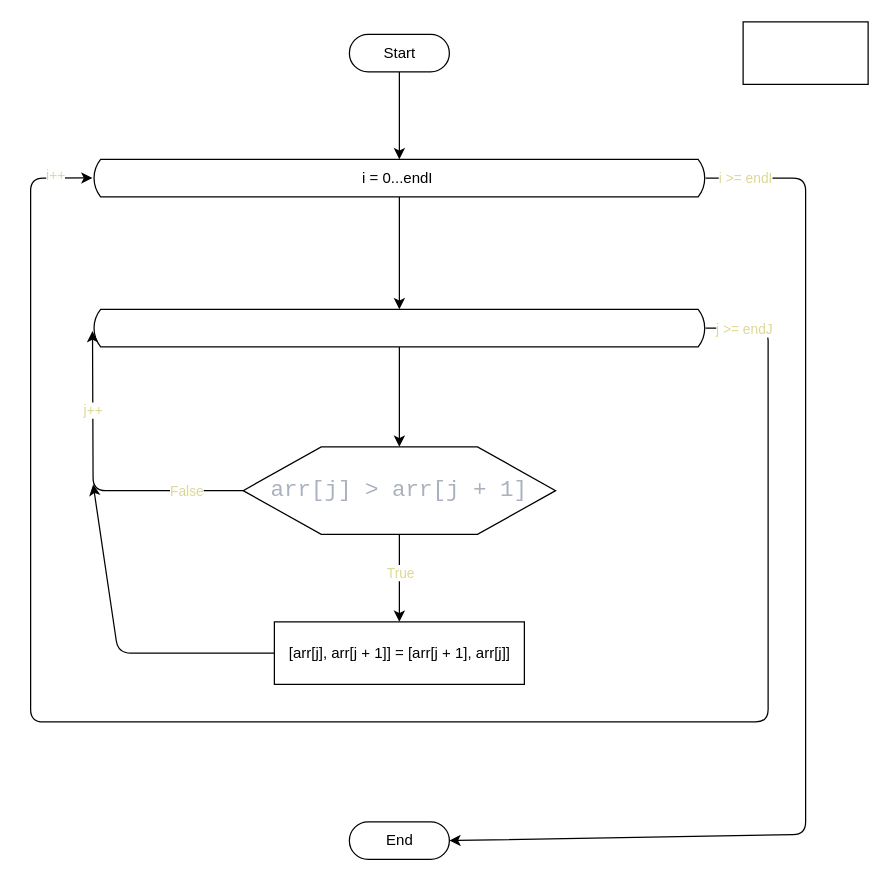
This 890x881 diagram has some shape labels left out. The box of each missing label's shape, as (x1, y1, x2, y2) in pixels:
endI=arr.length-1, endJ=endI-i: (742, 21, 868, 84)
j = 0...endJ: (92, 308, 706, 347)
